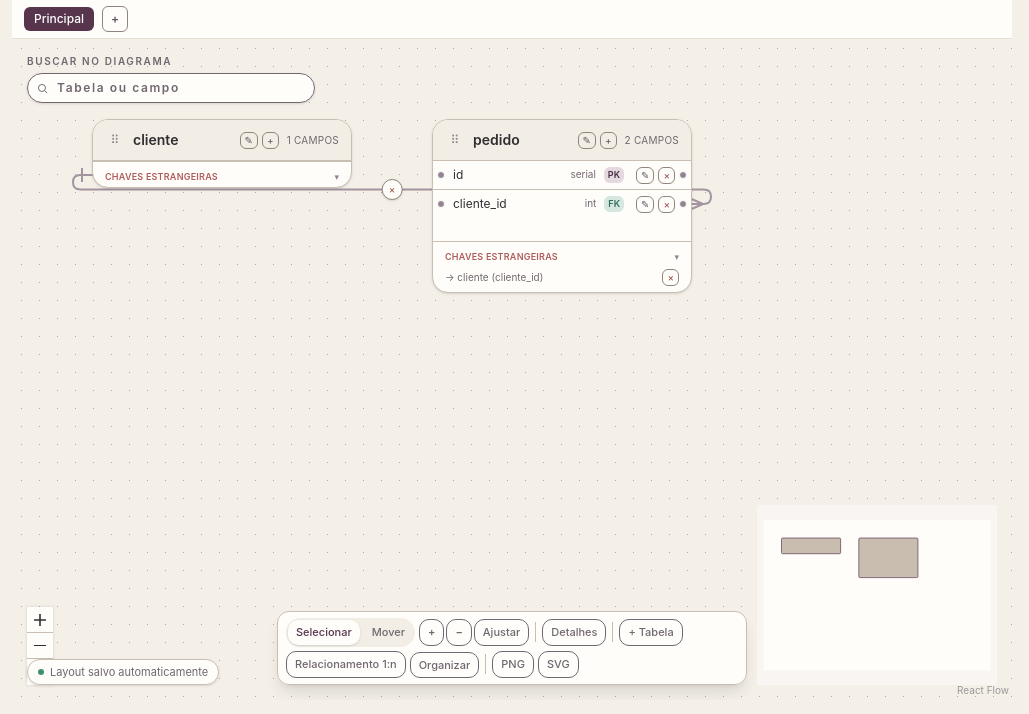
Scenario: DiagramCanvas editing › undo desfaz a criação com restauração e redo reaplica; botões somem sem histórico
Expected: the element with test id "diagram-node-cliente" is shown, [92,119,352,188]
What coordinates should you click on to do the following:
click the button with test id "diagram-add-table"
I would click on:
 (651, 632)
Its box is [620,619,683,646].
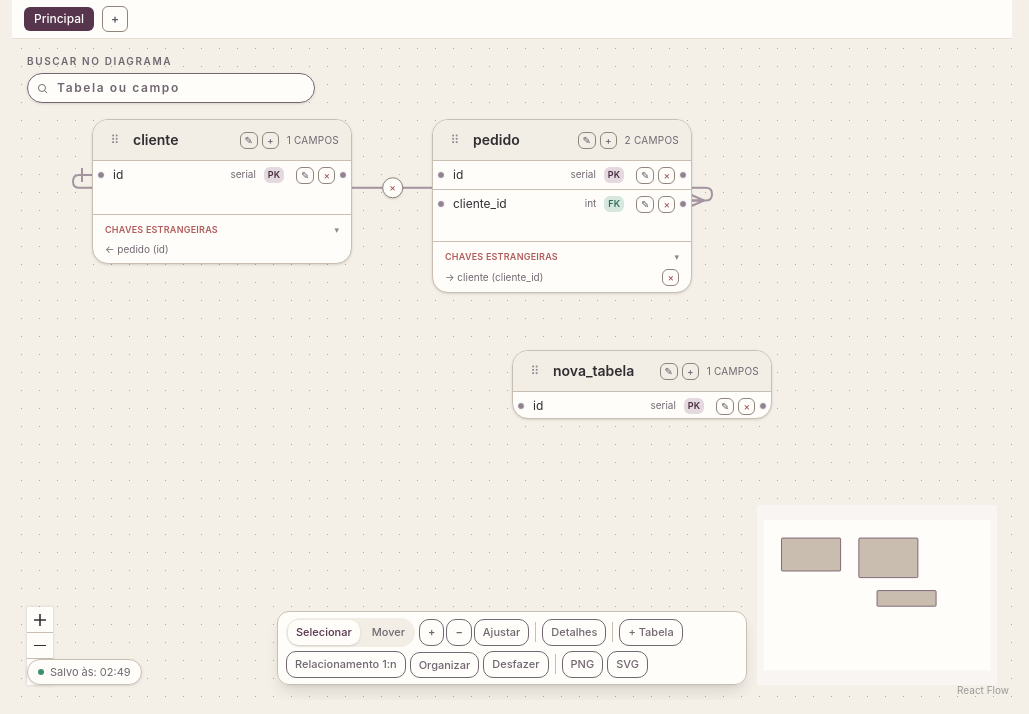
Expected: the element with test id "diagram-node-nova_tabela" is shown, [512,350,772,419]
What coordinates should you click on to do the following:
click the button with test id "diagram-undo"
I would click on:
 (516, 664)
Its box is [483,651,549,678].
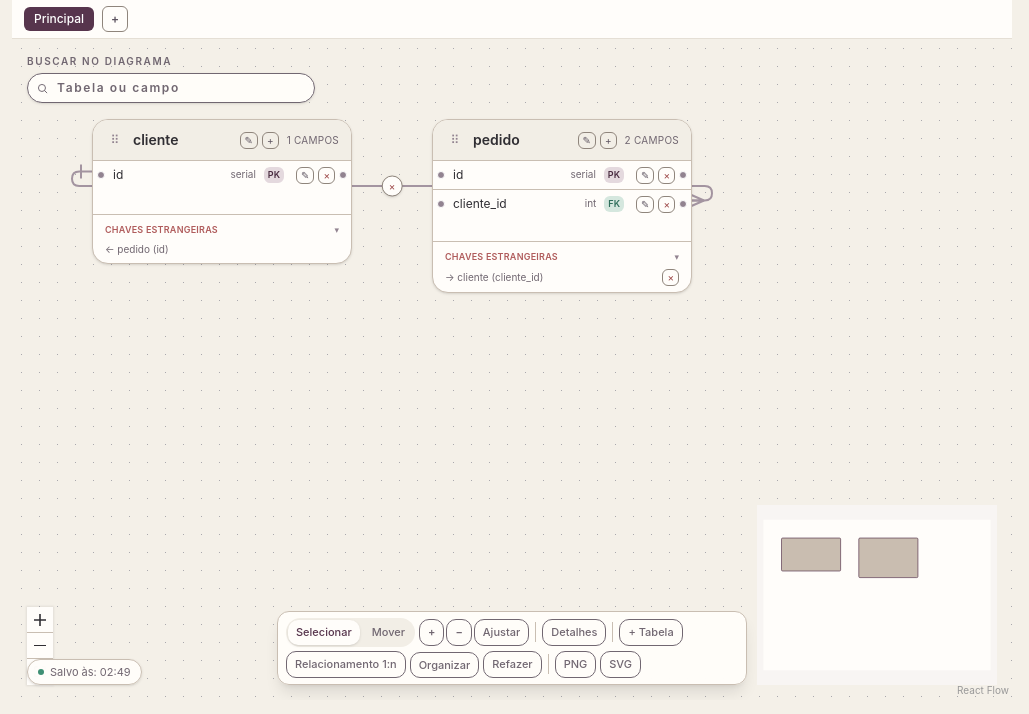
Expected: the element with test id "diagram-node-nova_tabela" is gone
Expected: the button with test id "diagram-undo" is gone
What coordinates should you click on to do the following:
click the button with test id "diagram-redo"
I would click on:
 (512, 664)
Its box is [483,651,542,678].
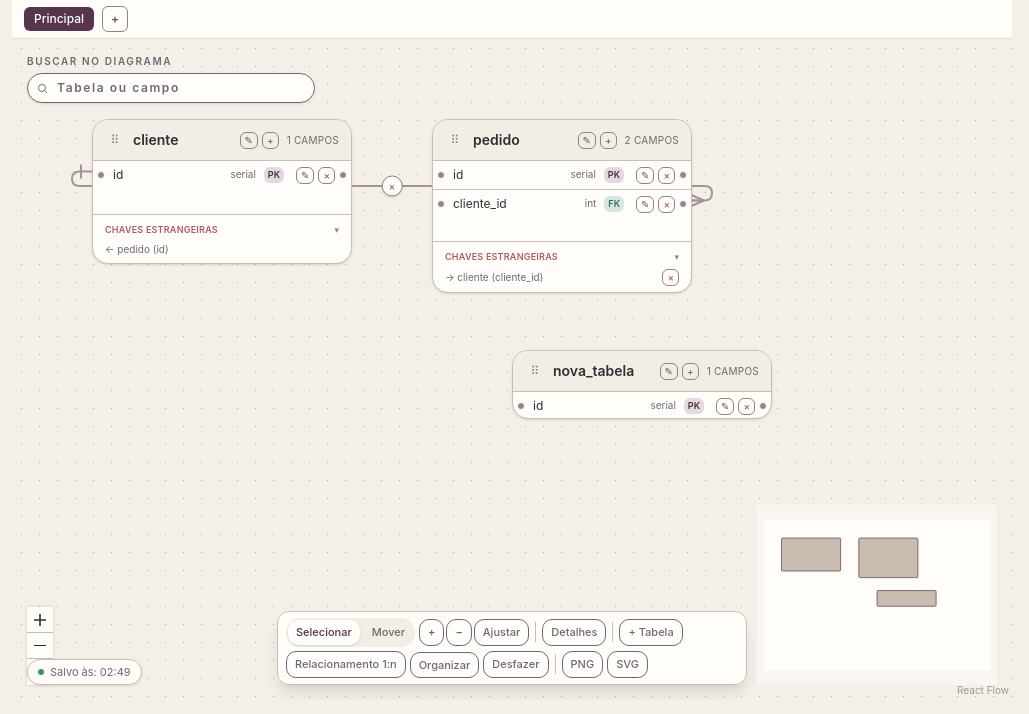
Expected: the button "nova_tabela" is shown, [553,361,652,381]
Expected: the element with test id "diagram-node-nova_tabela" is shown, [512,350,772,419]
Expected: the button with test id "diagram-redo" is gone
